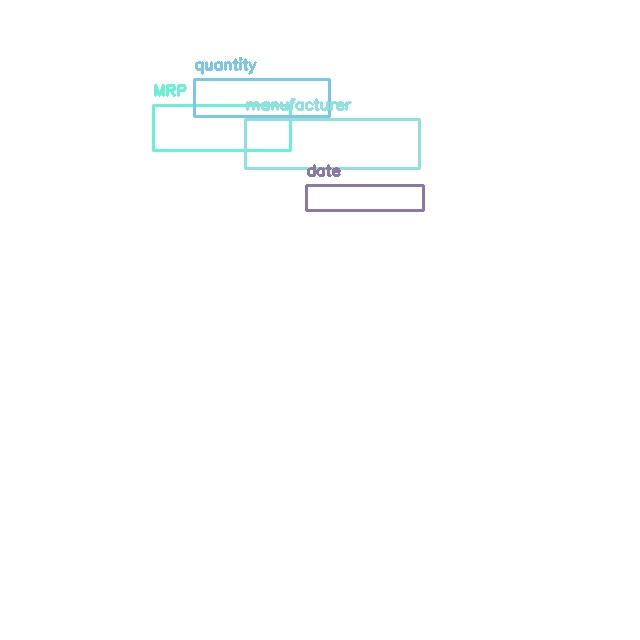MRP: (153, 105, 290, 150)
date: (306, 185, 423, 210)
manufacturer: (245, 119, 419, 168)
quantity: (194, 79, 329, 116)
